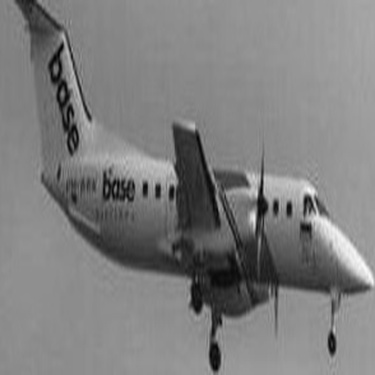airplane: (1, 3, 371, 372)
